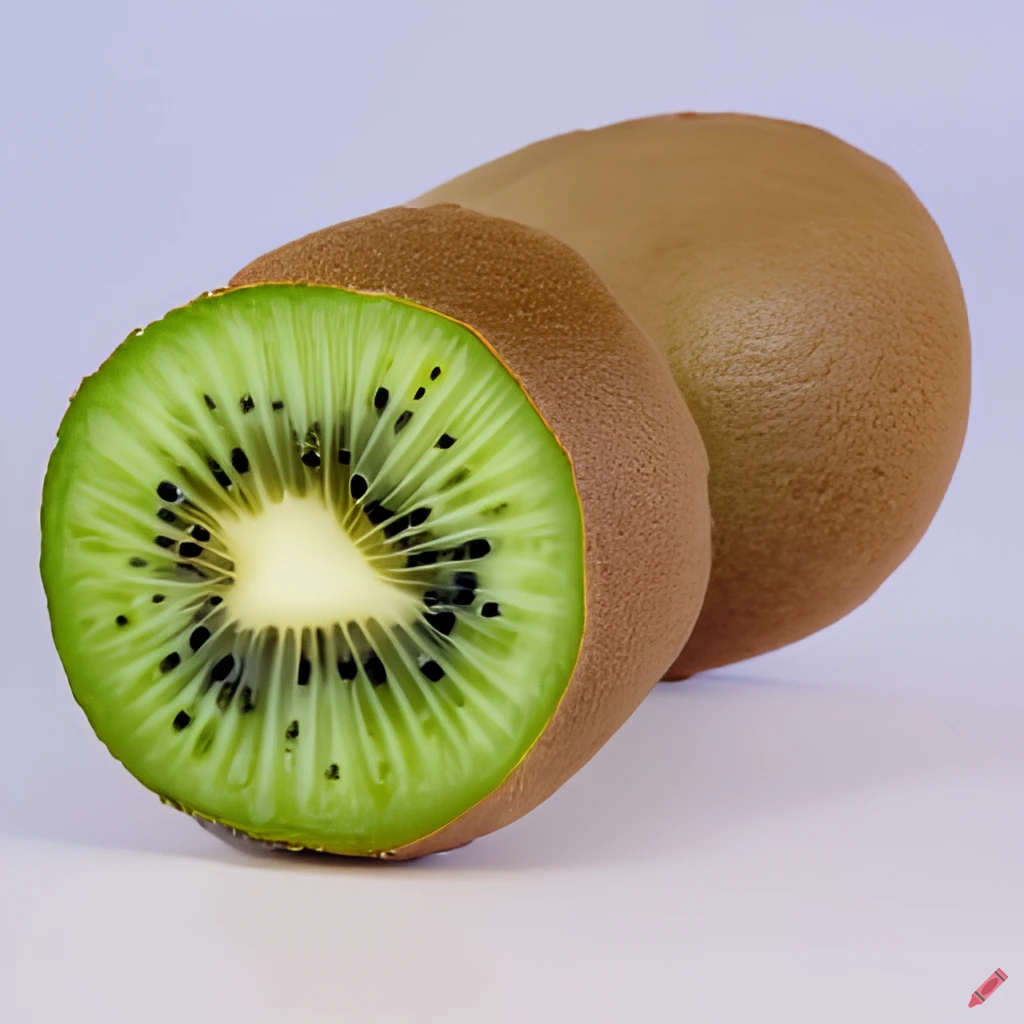Kiwi: (35, 199, 766, 866)
